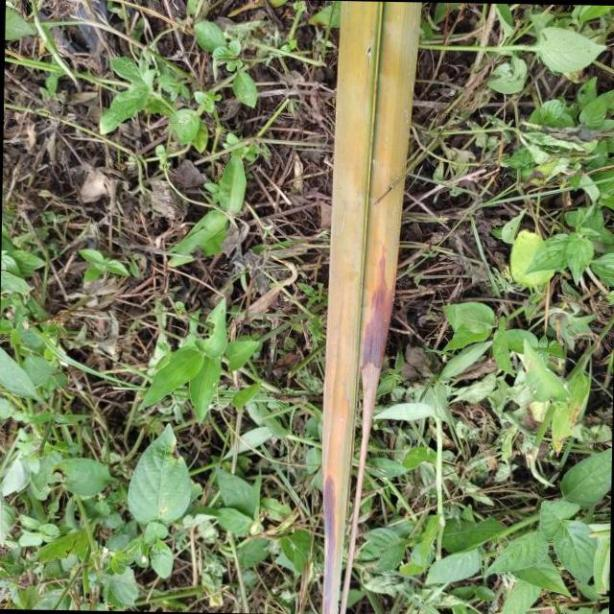Megnesium: (320, 0, 425, 614)
